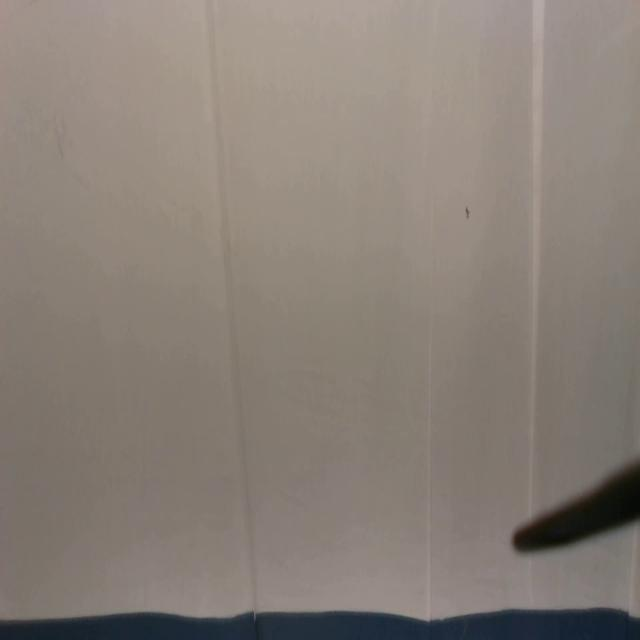hole: (464, 205, 471, 220)
